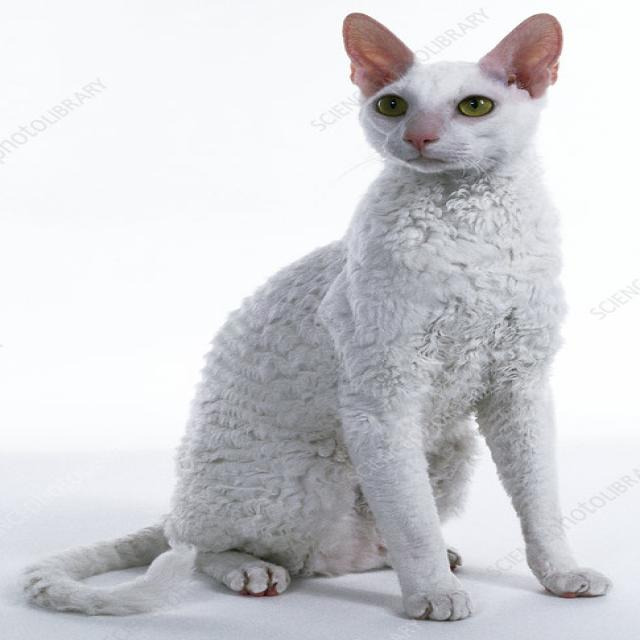Cornish Rex: (8, 2, 620, 627)
